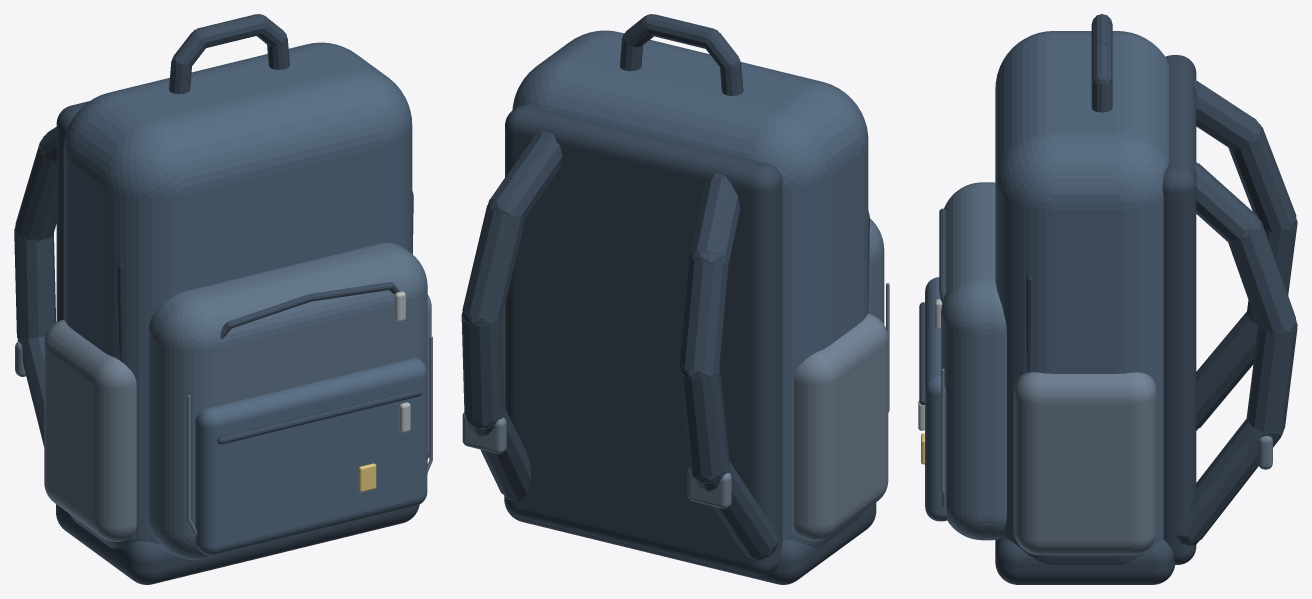
File: hiking-backpack.glb
The picture shows the model from 3 angles, left to right: view 1: azimuth 30°, elevation 25°; view 2: azimuth 150°, elevation 25°; view 3: azimuth 270°, elevation 25°; orthographic projection. The views are drawn at different scales.
Parts seen in each view (by area): view 1: Main woven shell, Front compartment, Front pocket, Side pocket -1, Shoulder strap -1, Base reinforcement, Carry handle, Padded back, Pocket zipper, Front zipper, Main zipper, Front seam -1 (+2 smaller); view 2: Padded back, Main woven shell, Side pocket -1, Shoulder strap -1, Shoulder strap 1, Carry handle, Base reinforcement, Front compartment, Strap buckle 1, Strap buckle -1; view 3: Main woven shell, Side pocket 1, Front compartment, Padded back, Shoulder strap 1, Shoulder strap -1, Base reinforcement, Front pocket, Carry handle, Front zipper, Pocket zipper, Main zipper (+1 smaller).
Boxes of the visible parts, left/top/right/bottom form: Main woven shell: left=63, top=42, right=412, bottom=548; Front compartment: left=148, top=243, right=427, bottom=559; Front pocket: left=195, top=357, right=427, bottom=555; Side pocket -1: left=44, top=319, right=136, bottom=541; Shoulder strap -1: left=14, top=127, right=56, bottom=446; Base reinforcement: left=56, top=504, right=419, bottom=584; Carry handle: left=169, top=14, right=289, bottom=94; Padded back: left=56, top=101, right=89, bottom=321; Pocket zipper: left=217, top=388, right=422, bottom=444; Front zipper: left=220, top=282, right=399, bottom=338; Main zipper: left=117, top=191, right=413, bottom=361; Front seam -1: left=187, top=395, right=196, bottom=536; Padded back: left=505, top=105, right=782, bottom=575; Main woven shell: left=512, top=30, right=868, bottom=547; Side pocket -1: left=794, top=313, right=888, bottom=540; Shoulder strap -1: left=679, top=173, right=778, bottom=560; Shoulder strap 1: left=461, top=131, right=562, bottom=501; Carry handle: left=620, top=14, right=743, bottom=95; Base reinforcement: left=504, top=496, right=876, bottom=584; Front compartment: left=868, top=218, right=884, bottom=324; Strap buckle 1: left=462, top=412, right=506, bottom=453; Strap buckle -1: left=687, top=467, right=731, bottom=508; Main woven shell: left=995, top=31, right=1168, bottom=564; Side pocket 1: left=1014, top=372, right=1156, bottom=554; Front compartment: left=941, top=182, right=1006, bottom=540; Padded back: left=1162, top=55, right=1196, bottom=564; Shoulder strap 1: left=1176, top=161, right=1297, bottom=545; Shoulder strap -1: left=1194, top=79, right=1297, bottom=430; Base reinforcement: left=995, top=538, right=1175, bottom=584; Front pocket: left=925, top=277, right=947, bottom=521; Carry handle: left=1091, top=14, right=1112, bottom=112; Front zipper: left=939, top=208, right=946, bottom=302; Pocket zipper: left=919, top=302, right=925, bottom=405; Main zipper: left=1026, top=273, right=1032, bottom=372.
Bounding box in the file's own units: 0.91 × 1.31 × 0.906.
